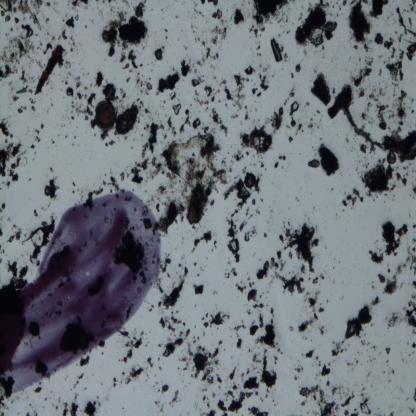Background material: (102, 10, 148, 72), (357, 84, 415, 131), (278, 220, 321, 273), (180, 339, 224, 389), (296, 0, 338, 50), (34, 37, 64, 96), (1, 21, 35, 67), (25, 214, 58, 260), (224, 172, 262, 210), (161, 311, 191, 356), (320, 382, 357, 416), (362, 158, 394, 196), (343, 303, 373, 342), (186, 186, 212, 230), (158, 198, 185, 238), (349, 0, 372, 44), (327, 81, 354, 118), (0, 142, 24, 182), (217, 390, 253, 416), (238, 128, 274, 154), (114, 102, 140, 137), (385, 131, 416, 160), (251, 0, 288, 23), (68, 92, 96, 121), (257, 312, 277, 351), (227, 208, 241, 263), (380, 220, 400, 258), (319, 142, 341, 176), (162, 276, 185, 308), (140, 121, 159, 158), (303, 292, 325, 323), (276, 272, 305, 294), (312, 71, 330, 106), (260, 354, 277, 390), (6, 259, 28, 286), (178, 107, 200, 134), (156, 70, 180, 94), (194, 84, 220, 106), (131, 158, 150, 186), (145, 182, 167, 206), (382, 59, 404, 82), (384, 37, 406, 60), (211, 107, 229, 135), (201, 310, 228, 328), (342, 187, 365, 207), (0, 0, 18, 25), (191, 231, 211, 253), (240, 219, 258, 242), (123, 366, 143, 386), (210, 24, 229, 45), (350, 66, 372, 84), (268, 250, 286, 271), (270, 39, 284, 65), (45, 178, 60, 202), (313, 360, 331, 379), (369, 0, 389, 17), (0, 64, 18, 82), (300, 385, 320, 401), (150, 158, 165, 179), (406, 298, 416, 329), (273, 105, 284, 133), (367, 247, 384, 265), (387, 311, 405, 328), (17, 0, 34, 18), (242, 375, 262, 390), (124, 336, 145, 350), (136, 77, 152, 95), (297, 318, 315, 334), (104, 82, 119, 101), (396, 7, 406, 35), (393, 263, 410, 279), (382, 278, 398, 295), (61, 401, 79, 416), (233, 91, 247, 110), (256, 261, 270, 280), (30, 0, 46, 16), (84, 189, 101, 204), (214, 167, 228, 185), (359, 397, 372, 416), (7, 228, 22, 244), (137, 98, 150, 116), (0, 124, 13, 142), (233, 73, 245, 92), (180, 58, 192, 77), (84, 400, 100, 414), (405, 244, 416, 264), (134, 0, 146, 18), (233, 7, 245, 25), (118, 349, 133, 363), (250, 406, 270, 416), (245, 23, 258, 38), (395, 223, 408, 238), (332, 340, 344, 356), (167, 119, 177, 138), (406, 41, 416, 60), (259, 72, 269, 91), (109, 175, 120, 192), (29, 14, 42, 28), (170, 387, 180, 405), (395, 172, 407, 187), (160, 256, 171, 272), (73, 372, 84, 388), (247, 290, 259, 304), (249, 320, 259, 336), (64, 15, 76, 28), (234, 321, 247, 333), (191, 75, 204, 87), (43, 40, 54, 54), (155, 278, 164, 295), (76, 186, 84, 204), (234, 282, 247, 293), (153, 46, 163, 60), (228, 367, 238, 381), (95, 70, 103, 87), (20, 69, 29, 84), (289, 101, 298, 116), (212, 8, 223, 20), (192, 283, 203, 295), (308, 158, 319, 170), (370, 297, 382, 308), (374, 32, 384, 45), (15, 86, 31, 94), (224, 88, 234, 100), (364, 54, 374, 66), (394, 126, 402, 141), (252, 353, 262, 365), (368, 144, 378, 156), (233, 150, 243, 161), (407, 263, 416, 275), (66, 86, 74, 99), (74, 75, 82, 88), (0, 399, 6, 416), (171, 104, 181, 114), (245, 64, 254, 75), (251, 302, 265, 309), (235, 337, 242, 351), (103, 139, 115, 147), (21, 156, 29, 168), (34, 385, 43, 395), (405, 28, 416, 36), (378, 273, 386, 284), (360, 142, 367, 154), (148, 355, 154, 369), (70, 34, 77, 46), (204, 46, 211, 58), (262, 64, 272, 72), (229, 381, 237, 391), (295, 364, 303, 374), (82, 356, 90, 366), (207, 408, 217, 416), (36, 60, 44, 70), (100, 130, 108, 140), (64, 60, 72, 70), (155, 202, 161, 215), (8, 80, 14, 92), (170, 92, 178, 101), (18, 106, 27, 114), (210, 51, 219, 59), (161, 383, 169, 392), (193, 7, 202, 15), (296, 122, 302, 134), (230, 112, 239, 120), (268, 305, 274, 317), (120, 172, 129, 180), (305, 349, 314, 357), (365, 370, 374, 378), (231, 266, 238, 276), (278, 154, 288, 161), (10, 396, 20, 403), (295, 62, 302, 72), (207, 0, 218, 6), (111, 376, 117, 387), (386, 262, 392, 273), (264, 116, 272, 124), (306, 122, 314, 130), (12, 95, 20, 103), (397, 33, 404, 42), (344, 361, 354, 367), (80, 0, 90, 6), (62, 30, 67, 42), (149, 302, 155, 312), (364, 42, 370, 52), (290, 118, 297, 126), (408, 406, 415, 414), (277, 347, 284, 355), (203, 126, 210, 134), (158, 123, 166, 130), (287, 134, 294, 142), (219, 79, 226, 87), (318, 272, 325, 280), (290, 87, 295, 98), (120, 89, 126, 98), (319, 326, 325, 335), (210, 198, 216, 207), (274, 161, 280, 170), (0, 203, 6, 212), (284, 96, 289, 106), (192, 334, 197, 344), (411, 184, 416, 194), (285, 14, 290, 24), (110, 6, 115, 16), (71, 0, 78, 7), (34, 135, 41, 142), (251, 86, 257, 94), (413, 387, 416, 403), (256, 43, 262, 51), (371, 278, 375, 290), (385, 347, 391, 355), (90, 119, 96, 127), (391, 183, 397, 191), (70, 180, 76, 188), (48, 166, 54, 174), (300, 334, 308, 340), (312, 276, 318, 284), (103, 179, 109, 187), (259, 160, 265, 168), (200, 395, 206, 403), (200, 56, 206, 64), (360, 387, 364, 399), (300, 398, 306, 406), (248, 281, 254, 289), (288, 324, 294, 332), (15, 17, 20, 26), (108, 166, 113, 175), (409, 17, 413, 28), (245, 110, 249, 121), (265, 387, 269, 398), (224, 271, 230, 278), (32, 209, 38, 216), (364, 162, 370, 169), (5, 180, 12, 186), (6, 215, 12, 222), (221, 160, 227, 167), (210, 62, 215, 70), (378, 68, 383, 76), (292, 375, 300, 380), (184, 266, 188, 276), (33, 408, 38, 416), (284, 52, 288, 62), (412, 280, 416, 289), (0, 226, 4, 235), (42, 205, 48, 211), (46, 2, 52, 8), (12, 224, 18, 230), (34, 260, 40, 266), (312, 410, 318, 416), (45, 16, 51, 22), (213, 240, 217, 249), (30, 98, 35, 105), (197, 60, 202, 67), (31, 105, 36, 112), (246, 205, 249, 216), (332, 87, 336, 95), (391, 367, 395, 375), (242, 165, 246, 173), (274, 355, 278, 363), (160, 404, 164, 412), (373, 344, 377, 352), (125, 76, 130, 82), (384, 358, 389, 364), (35, 128, 40, 134), (200, 0, 206, 5), (402, 165, 408, 170), (411, 294, 416, 300), (56, 397, 61, 403), (400, 282, 404, 289), (412, 328, 416, 335), (190, 23, 194, 30), (412, 237, 416, 244), (298, 13, 302, 20), (400, 386, 404, 393), (412, 342, 416, 349), (261, 28, 266, 33), (389, 411, 394, 416), (228, 167, 233, 172), (405, 396, 410, 401), (263, 233, 268, 238), (361, 340, 366, 345), (257, 52, 262, 57), (67, 71, 72, 76), (257, 92, 262, 97), (205, 403, 210, 408), (326, 380, 330, 386), (259, 196, 263, 202), (400, 357, 404, 363), (183, 44, 187, 50), (256, 208, 260, 214), (193, 262, 197, 268), (163, 134, 167, 140), (342, 0, 346, 6), (202, 41, 206, 47), (338, 4, 342, 10), (306, 101, 310, 107), (158, 342, 162, 348), (108, 0, 114, 4), (410, 6, 414, 12), (212, 392, 216, 398), (54, 404, 58, 410), (214, 290, 218, 296), (29, 402, 33, 408), (254, 391, 258, 397), (194, 68, 197, 75), (362, 0, 369, 3), (413, 222, 416, 229), (246, 151, 250, 156), (167, 273, 171, 278), (396, 165, 400, 170), (70, 48, 74, 53), (62, 123, 66, 128), (65, 133, 69, 138), (312, 205, 316, 210), (194, 37, 198, 42), (358, 57, 362, 62), (65, 80, 69, 85), (50, 102, 54, 107), (178, 263, 182, 268), (366, 341, 370, 346), (308, 276, 312, 281), (412, 0, 416, 5), (295, 197, 299, 202), (84, 24, 88, 29), (246, 77, 250, 82), (44, 396, 48, 401), (41, 123, 44, 129), (254, 106, 257, 112), (252, 199, 255, 205), (58, 34, 61, 40), (158, 302, 161, 308), (375, 413, 381, 416), (53, 35, 56, 41), (247, 369, 250, 375), (212, 75, 216, 79), (270, 208, 274, 212), (388, 378, 392, 382), (316, 110, 320, 114), (27, 178, 31, 182), (354, 45, 358, 49), (408, 3, 412, 7), (164, 36, 168, 40), (76, 14, 78, 22), (330, 186, 334, 190), (0, 243, 2, 251), (405, 173, 409, 177), (254, 162, 258, 166), (31, 144, 35, 148), (321, 46, 324, 51), (372, 197, 375, 202), (310, 117, 313, 122), (164, 28, 169, 31), (51, 139, 54, 144), (37, 46, 40, 51), (370, 383, 373, 388), (326, 298, 329, 303), (34, 150, 37, 155), (32, 156, 35, 161), (403, 307, 406, 311), (221, 20, 224, 24), (96, 0, 100, 3), (249, 162, 252, 166), (93, 133, 96, 137), (408, 353, 411, 357), (355, 360, 358, 364), (320, 137, 323, 141), (250, 214, 253, 218), (104, 172, 107, 176), (286, 31, 290, 34), (197, 38, 200, 42), (85, 87, 89, 90), (333, 278, 335, 284), (90, 82, 92, 88), (103, 0, 106, 4), (163, 100, 166, 104), (336, 12, 339, 16), (406, 341, 409, 345), (40, 42, 43, 46), (373, 356, 376, 360), (141, 332, 144, 336), (316, 356, 319, 360), (379, 55, 382, 59), (371, 322, 373, 327), (370, 345, 372, 350), (292, 74, 294, 79), (158, 356, 160, 361), (412, 168, 414, 173), (72, 191, 75, 194), (332, 5, 335, 8), (197, 274, 200, 277), (2, 250, 5, 253), (26, 413, 29, 416), (383, 371, 386, 374), (333, 257, 336, 260), (173, 67, 175, 71), (74, 135, 76, 139), (338, 260, 340, 264), (0, 259, 2, 263), (356, 166, 358, 170), (160, 367, 162, 371), (203, 332, 205, 336), (88, 72, 90, 75), (72, 143, 74, 146), (398, 397, 400, 400), (211, 250, 214, 252), (251, 79, 253, 82), (366, 349, 368, 352), (219, 100, 221, 103), (63, 96, 65, 99), (301, 130, 304, 132), (395, 30, 397, 33), (301, 353, 304, 355), (335, 2, 338, 4), (226, 104, 228, 107), (254, 83, 256, 86), (333, 266, 335, 269), (408, 10, 410, 13), (202, 14, 204, 17), (370, 360, 372, 362), (352, 368, 354, 370), (359, 336, 361, 338), (362, 164, 364, 166), (61, 88, 62, 92), (52, 87, 54, 89), (307, 412, 309, 414), (193, 32, 195, 33), (207, 108, 208, 110)
Cellulose filter fibre: (341, 107, 384, 150)
Diatom: (95, 100, 116, 128)
Fragment: (165, 133, 215, 190)
Pen: (0, 187, 160, 396)
